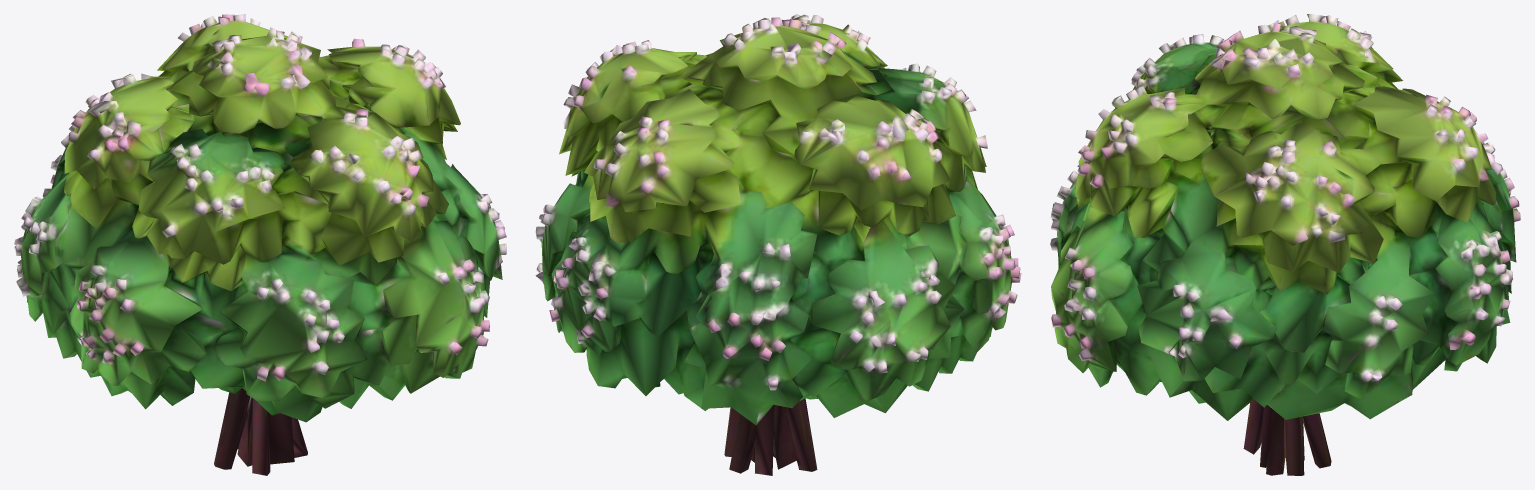
Rendered from bush-flowering-a.glb.
3 views of the same model, side by side, from view 1: azimuth 30°, elevation 25°; view 2: azimuth 150°, elevation 25°; view 3: azimuth 270°, elevation 25° (orthographic).
Parts seen in each view (by area): view 1: node_0; view 2: node_0; view 3: node_0.
Part boxes in pixels (x1=…): node_0: x1=14, y1=14, x2=506, y2=475; node_0: x1=535, y1=14, x2=1021, y2=475; node_0: x1=1050, y1=14, x2=1520, y2=475.
Size of the model in its own units: 1.21 by 1.2 by 1.21.
Materials: 1 (1 with a texture image).
